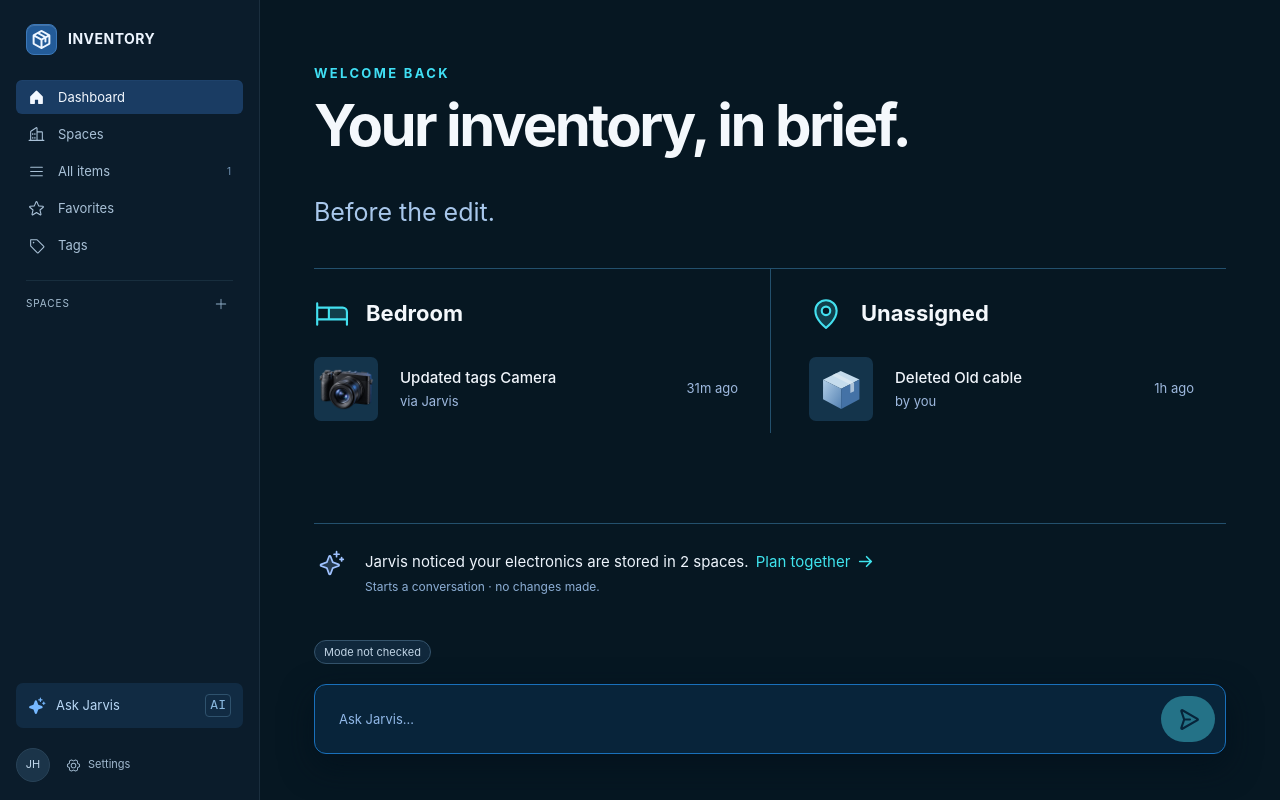
Test case: refreshes saved dashboard activity after an item edit finishes
expect the text "Before the edit." is shown: met, box [314,197,495,227]
Click the button with aria-label "Open Camera" at (526, 389), box [314,345,738,433]
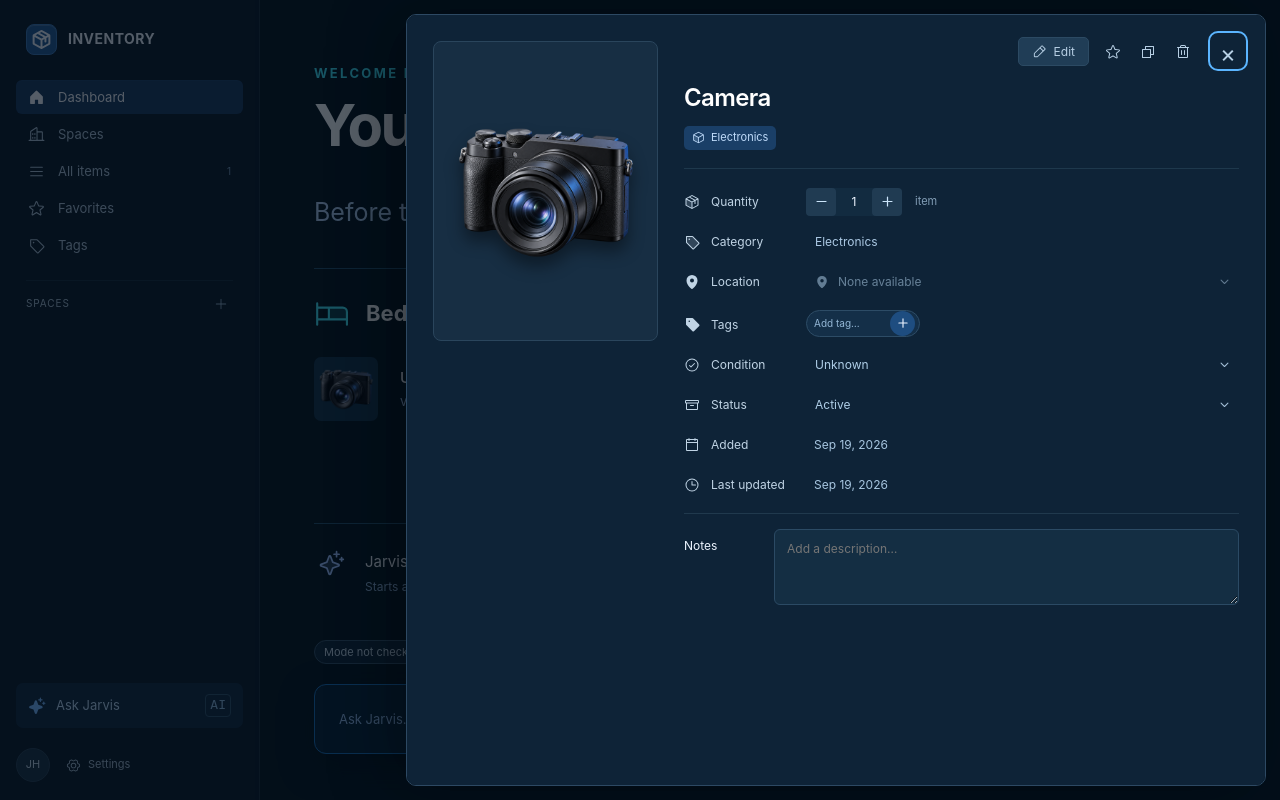
Click the button named "Increase quantity" at (887, 202), box [872,188,902,216]
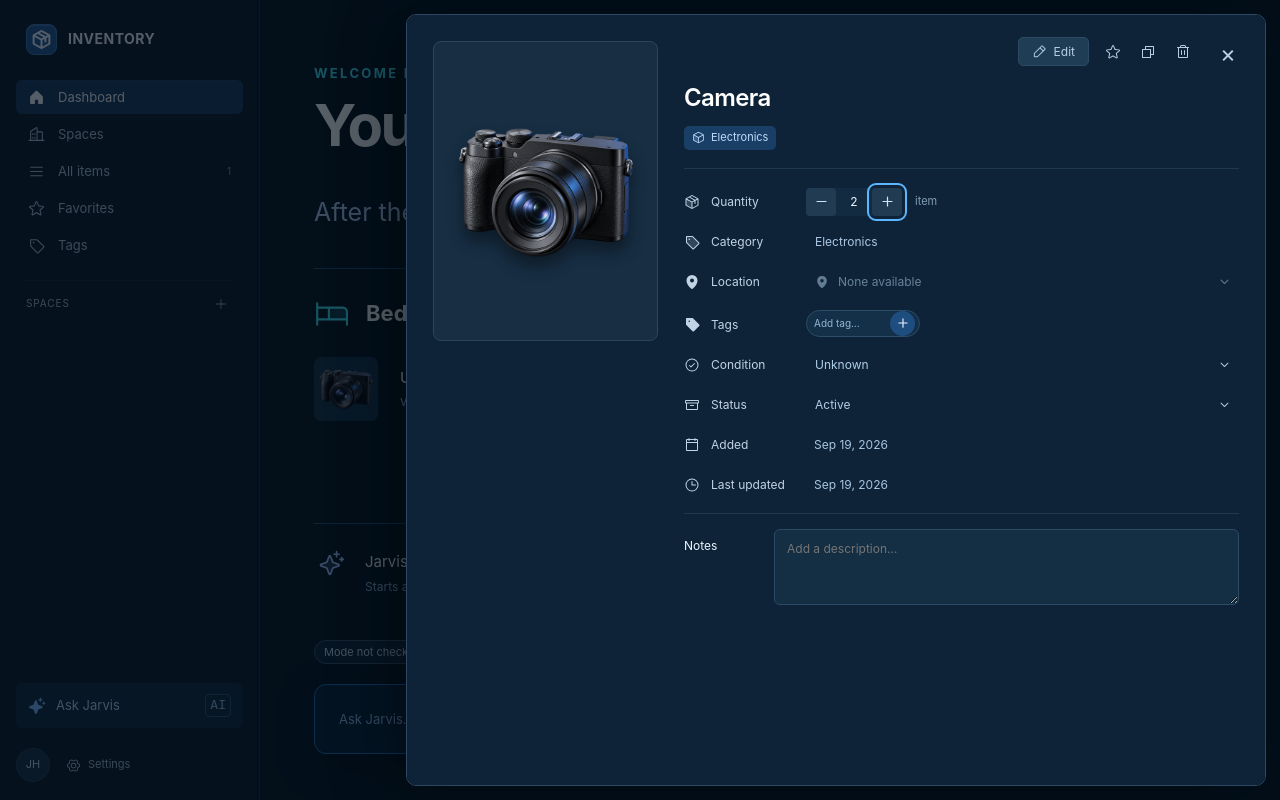
expect the text "After the edit." is shown: met, box [314,197,474,227]
